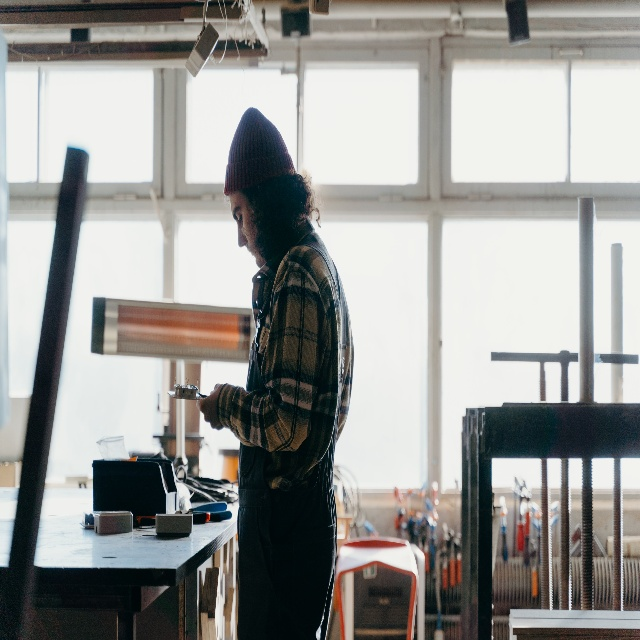Sin_guantes: (196, 383, 223, 431)
